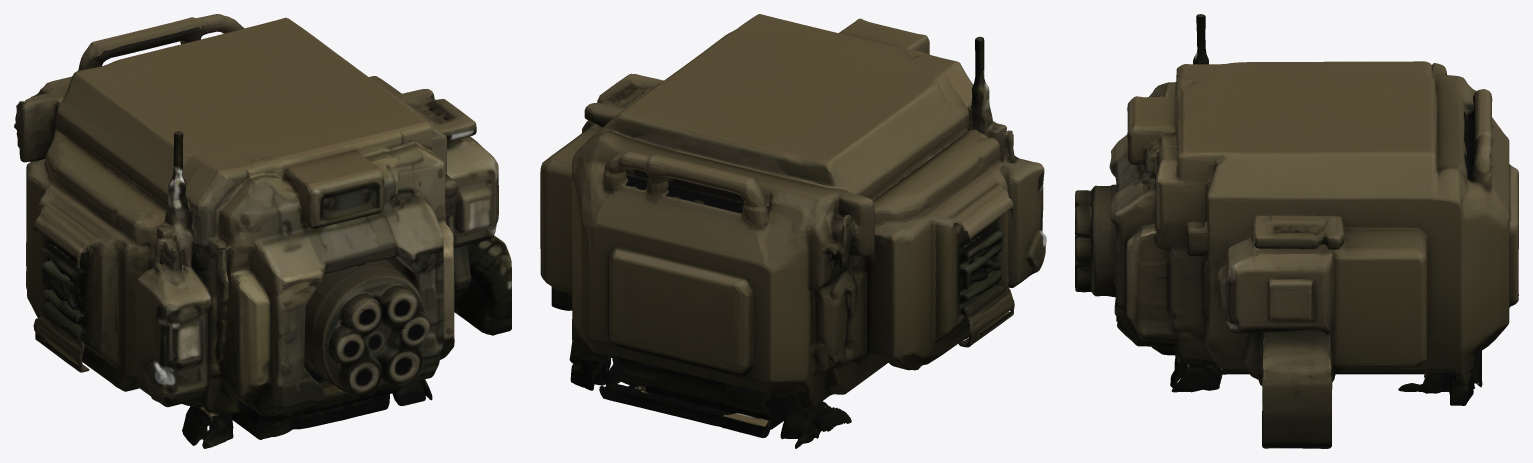
File: Head.glb
3 renders of one model, left to right at view 1: azimuth 30°, elevation 25°; view 2: azimuth 150°, elevation 25°; view 3: azimuth 270°, elevation 25°, orthographic. The views are drawn at different scales.
Visible parts, largest first — view 1: tmpte6ej6mr.ply; view 2: tmpte6ej6mr.ply; view 3: tmpte6ej6mr.ply.
Boxes of the visible parts, bbox=[...] form: tmpte6ej6mr.ply: bbox=[14, 14, 511, 448]; tmpte6ej6mr.ply: bbox=[540, 14, 1046, 448]; tmpte6ej6mr.ply: bbox=[1075, 14, 1518, 448].
Size of the model in its own units: 1.97 by 1.35 by 1.97.
1 material, 1 textured.
